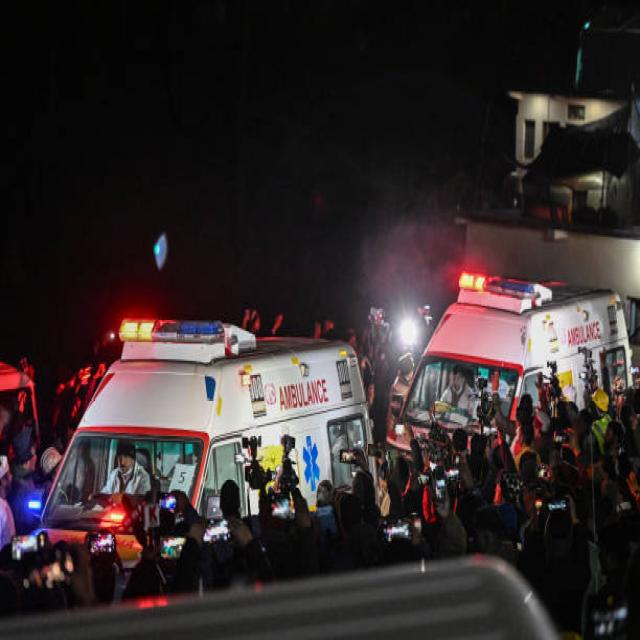ambulance: (37, 311, 366, 516), (396, 256, 629, 443)
